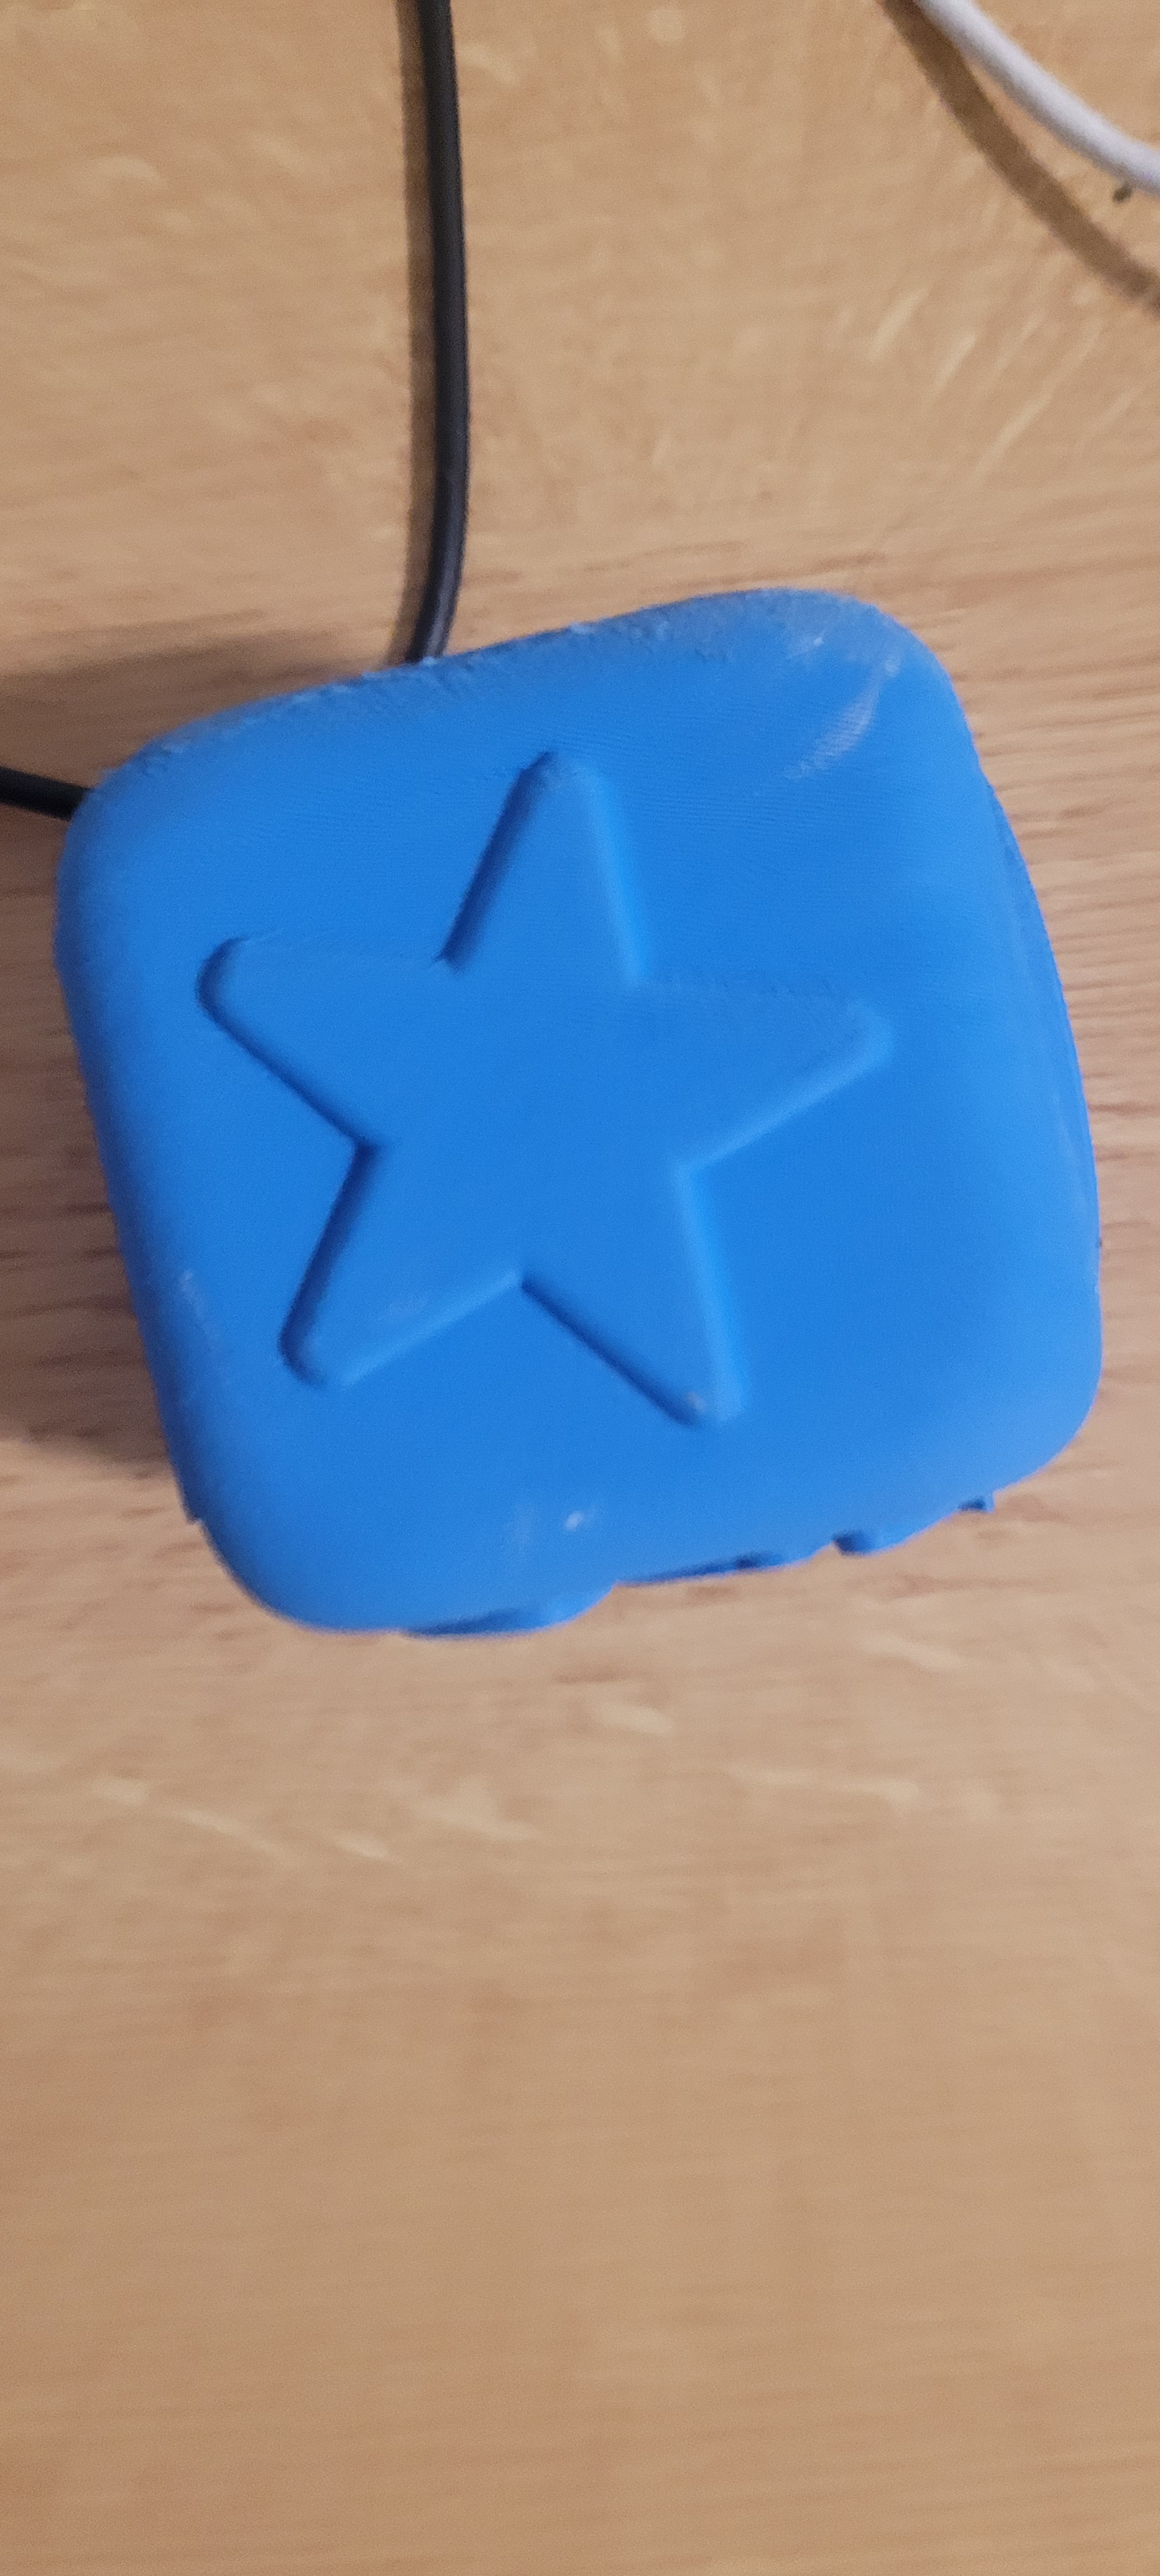Star: (135, 789, 973, 1464)
